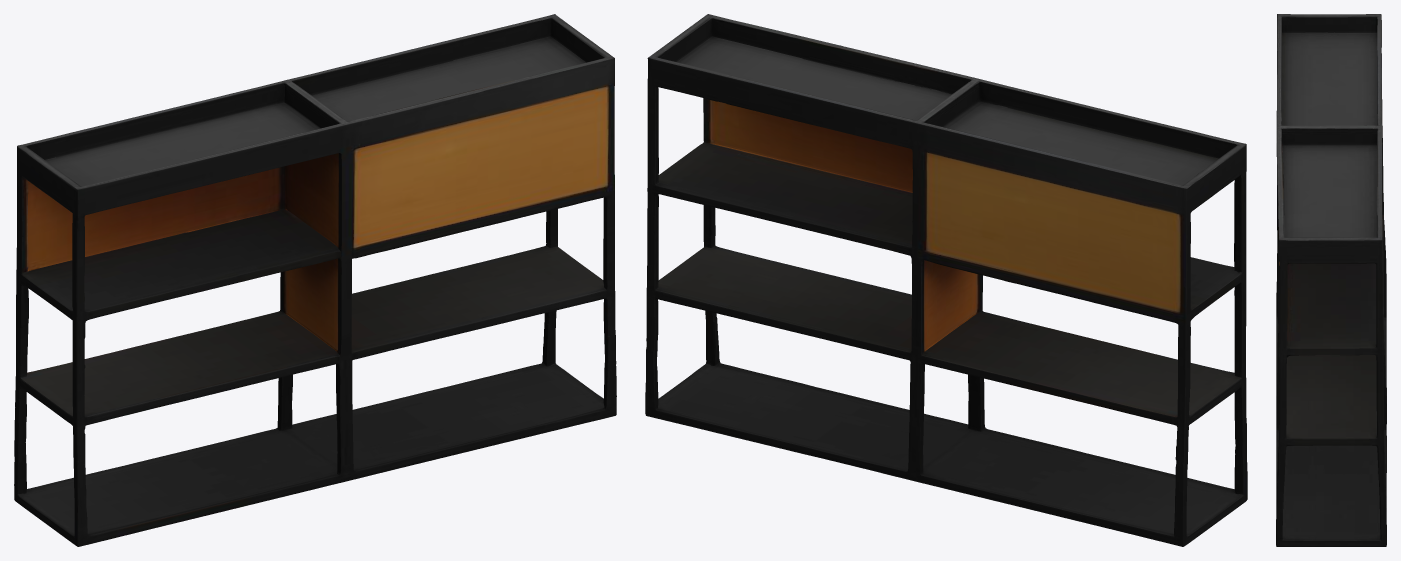
File: office-book-shelf.glb
3 renders of one model, left to right at view 1: azimuth 30°, elevation 25°; view 2: azimuth 150°, elevation 25°; view 3: azimuth 270°, elevation 25°, orthographic. The views are drawn at different scales.
Visible parts, largest first — view 1: office-book-shelf; view 2: office-book-shelf; view 3: office-book-shelf.
Boxes of the visible parts, x1,y1,x2,y2 form: office-book-shelf: [14, 14, 616, 546]; office-book-shelf: [645, 14, 1247, 546]; office-book-shelf: [1276, 14, 1386, 546].
Size of the model in its own units: 2.35 by 1.48 by 0.4856.
1 material, 1 textured.
